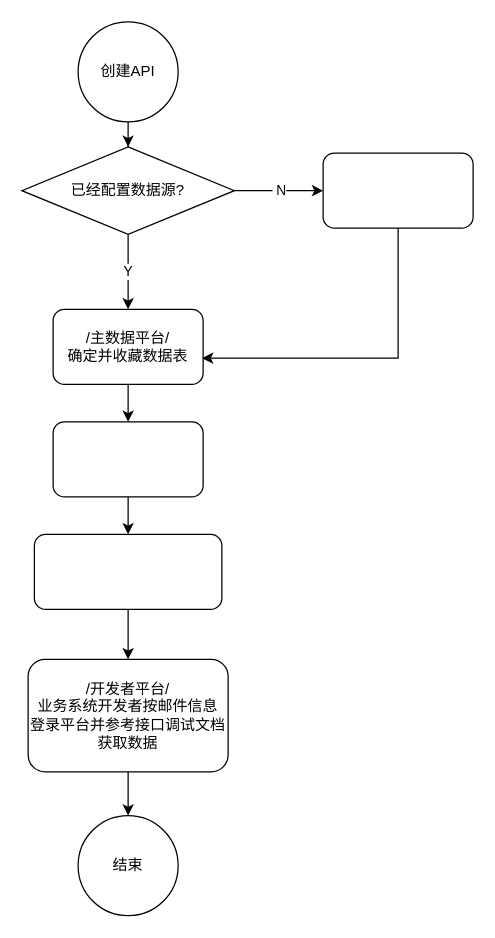
Some shapes in this 495 by 938 pixel diagram are drawn without their labels. The shapes that lost their labels are listed below. From the top down, each one's centre as x and y in pixels, then its label:
At point (397, 190): "/db智能分析平台/ 配置数据源 配置业务系统".
At point (127, 459): "/主数据平台/ 创建API并授权".
At point (127, 571): "/主数据平台/ 将API信息发送至业务系统负责人邮箱".
